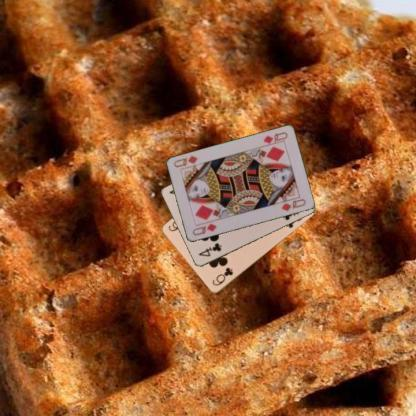4c: (196, 240, 223, 258)
6c: (210, 265, 234, 287)
Qd: (260, 130, 289, 148), (189, 221, 218, 237)
